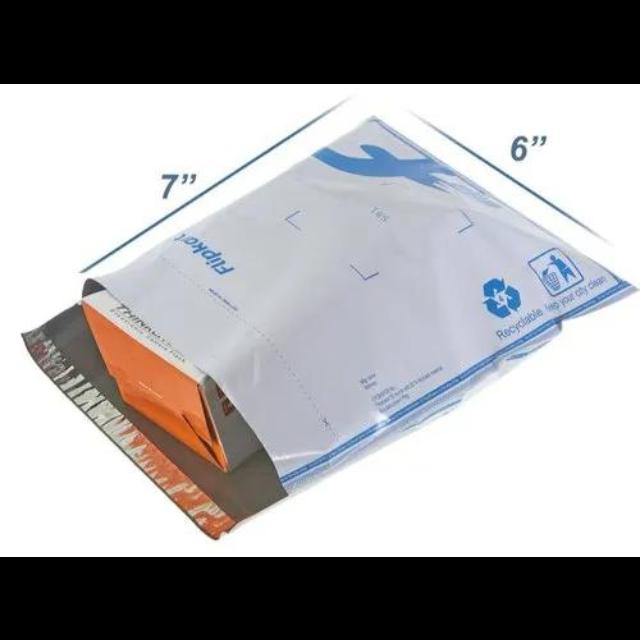mailer: (39, 122, 632, 520)
